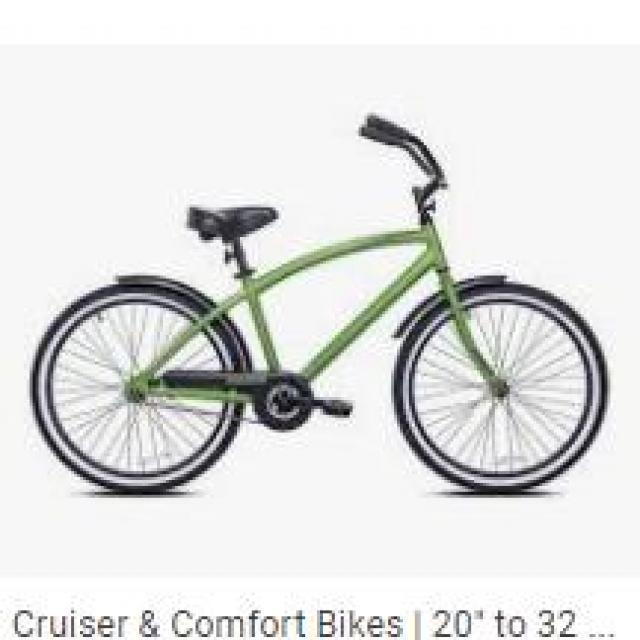bicycle: (22, 111, 600, 479)
